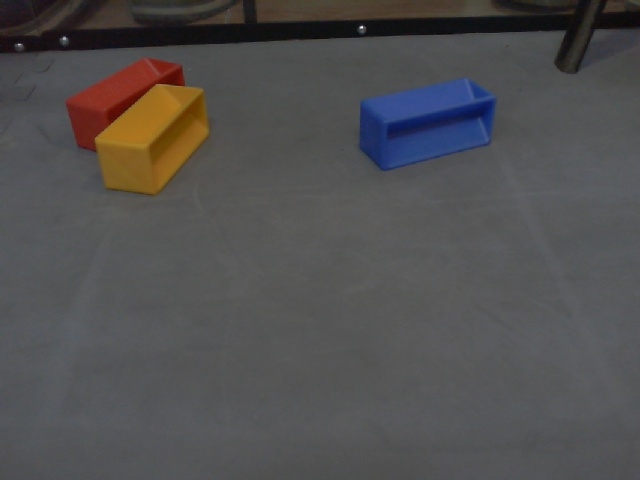BlueSample: (357, 76, 498, 172)
RedSample: (64, 56, 187, 155)
YellowSample: (95, 85, 213, 195)
